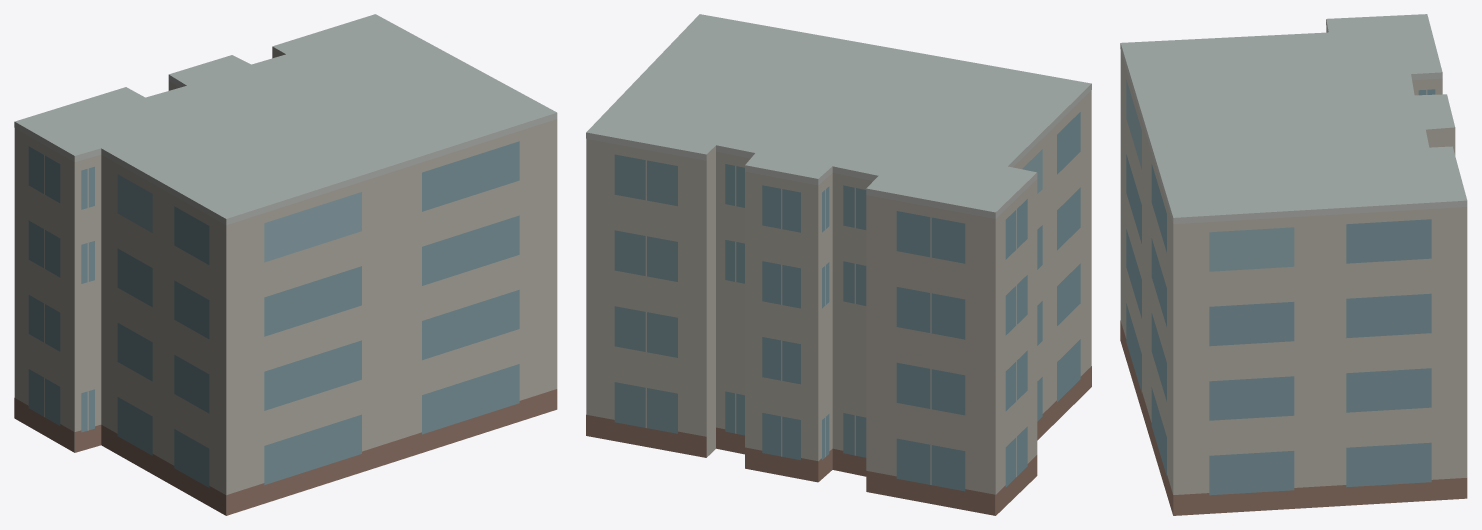
File: survey-upis-32592114.glb
3 views of the same model, side by side, from view 1: azimuth 30°, elevation 25°; view 2: azimuth 150°, elevation 25°; view 3: azimuth 270°, elevation 25° (orthographic). The views are drawn at different scales.
Parts seen in each view (by area): view 1: survey-upis-32592114.tmp; view 2: survey-upis-32592114.tmp; view 3: survey-upis-32592114.tmp.
Part boxes in pixels (x1=…): survey-upis-32592114.tmp: x1=14, y1=14, x2=557, y2=515; survey-upis-32592114.tmp: x1=586, y1=14, x2=1091, y2=515; survey-upis-32592114.tmp: x1=1120, y1=14, x2=1467, y2=515.
Size of the model in its own units: 17.03 by 11.6 by 12.25.
